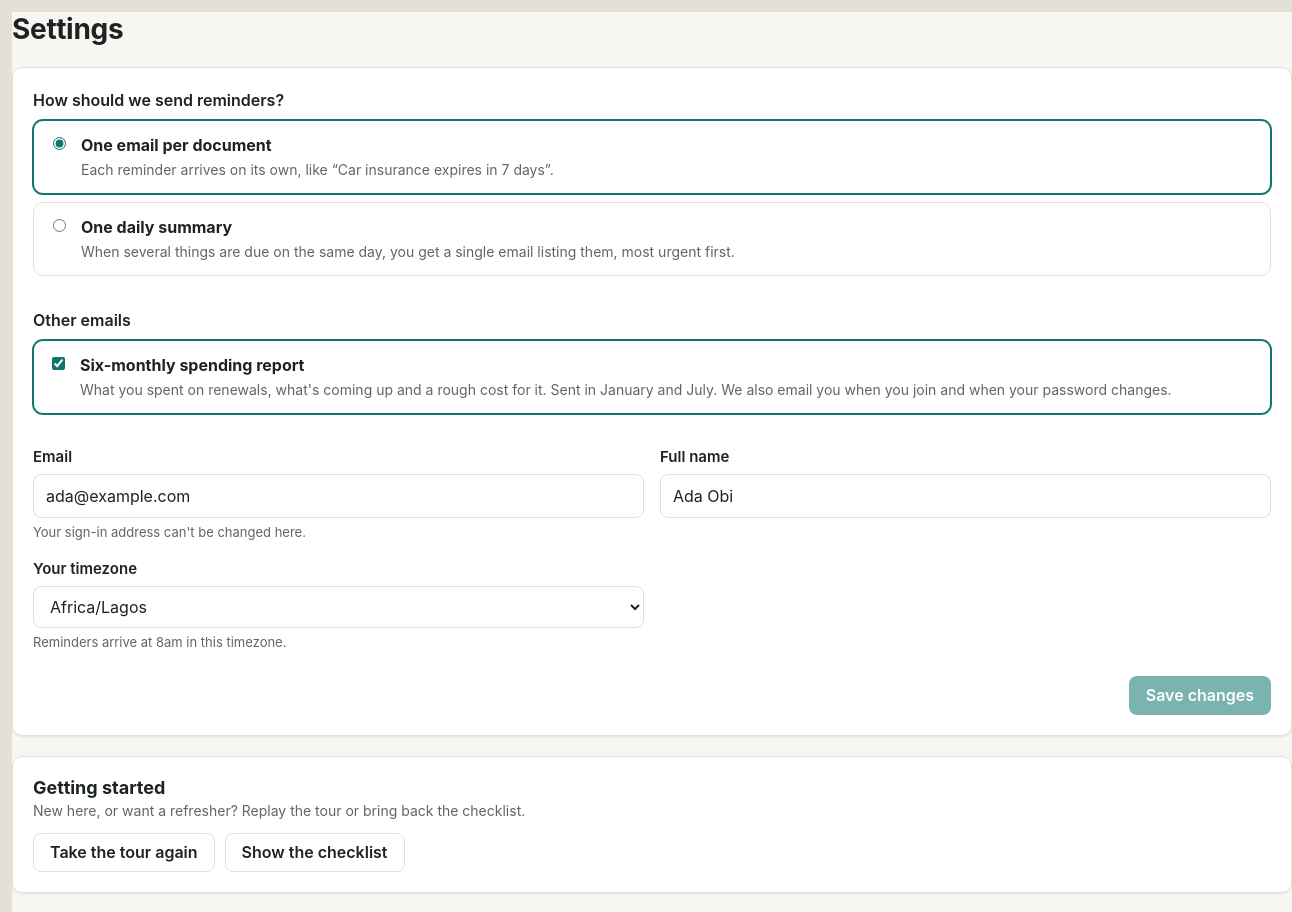
SettingsPage › does not save an empty name
expect the heading "Settings" is shown: met, box [12,12,123,47]
Clear the field labelled "Full name": (966, 496) [660,474,1271,518]
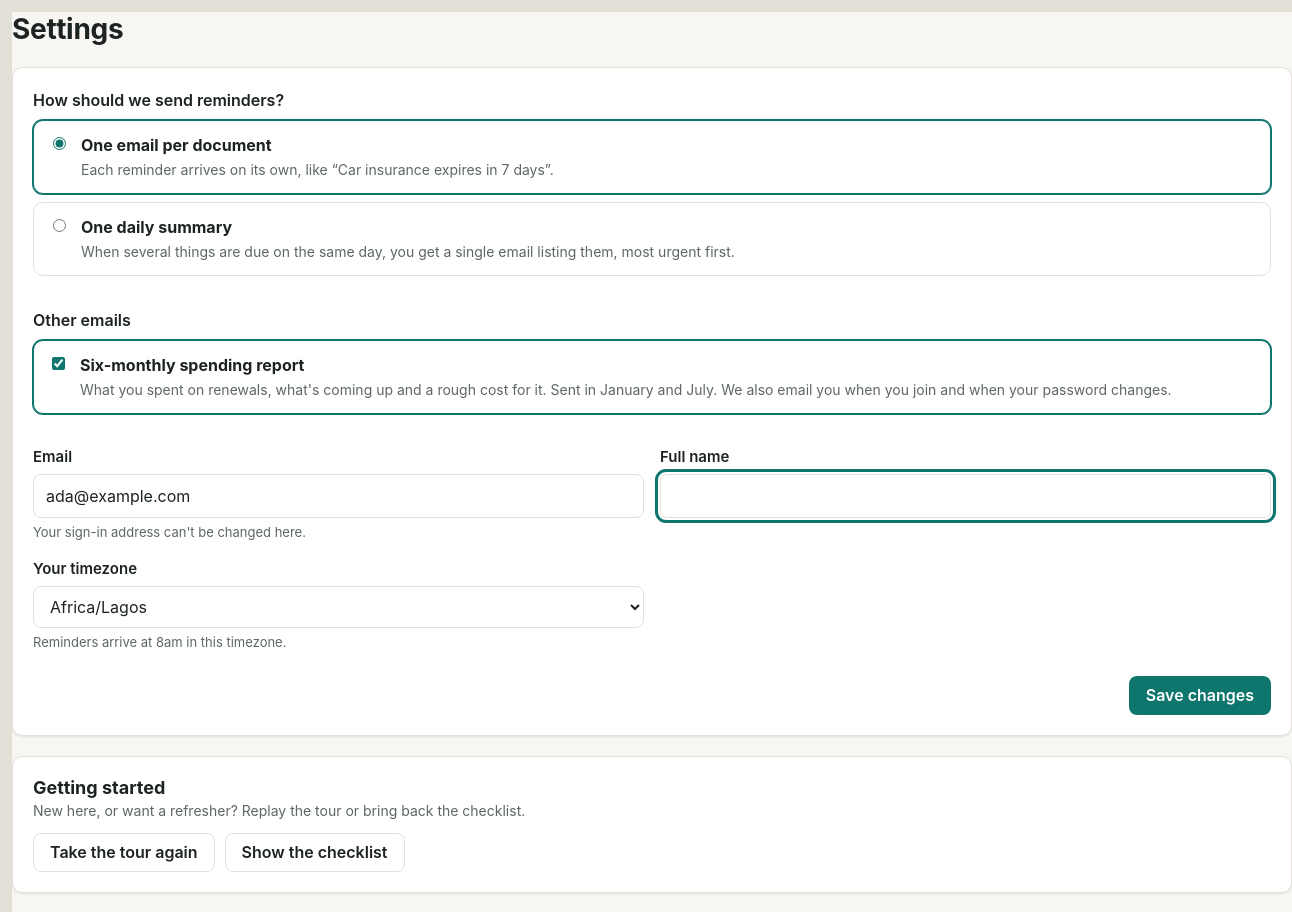
Click the button "Save changes": (1200, 696) [1129,676,1271,715]
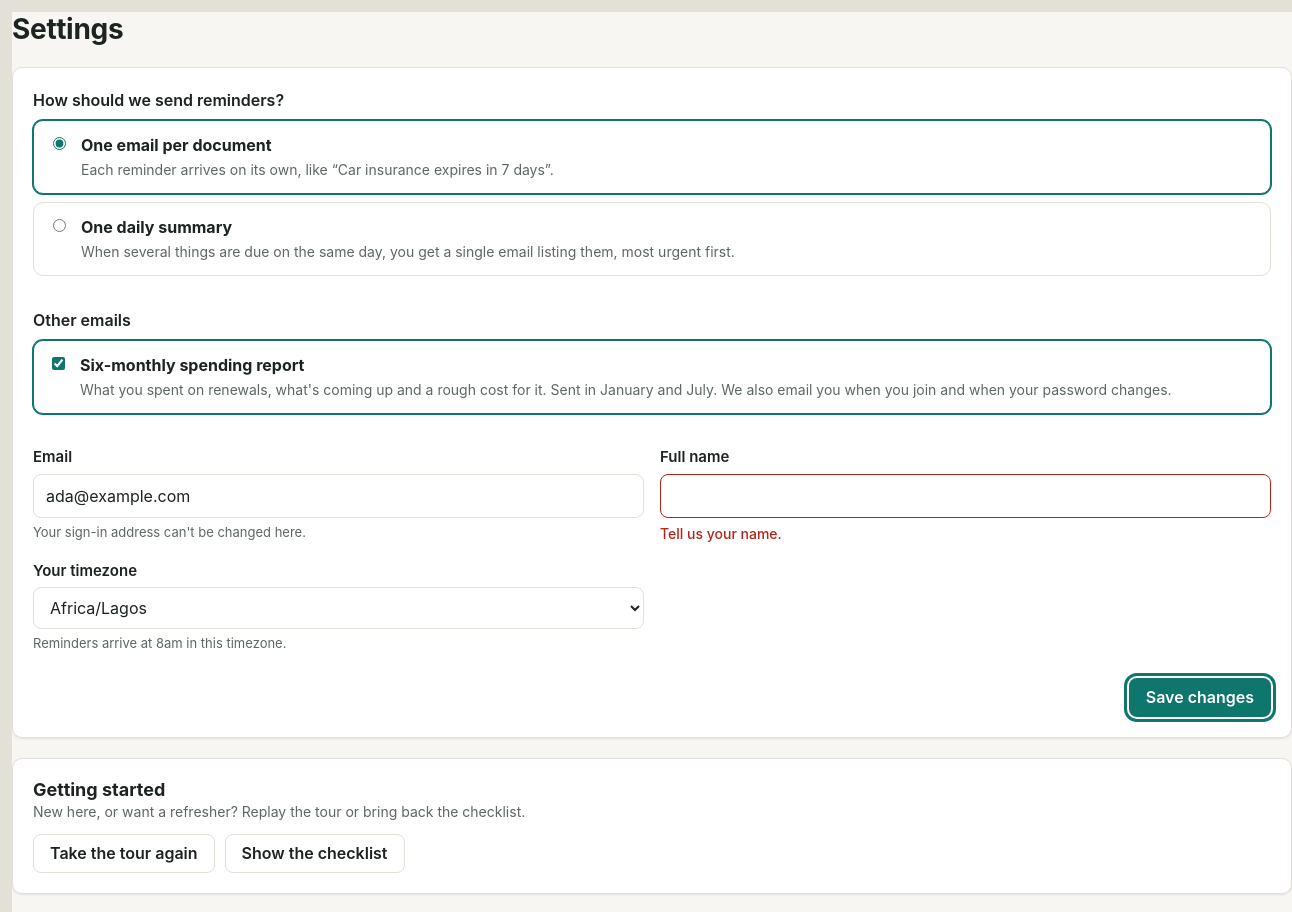
expect the text "Tell us your name." is shown: met, box [660,524,782,542]
